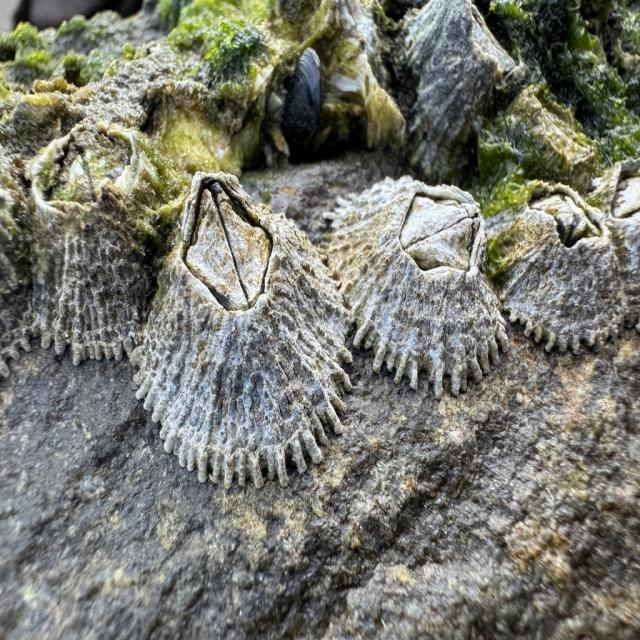barnacles: (141, 166, 357, 489), (320, 160, 498, 394), (15, 99, 158, 369), (494, 170, 626, 359)
